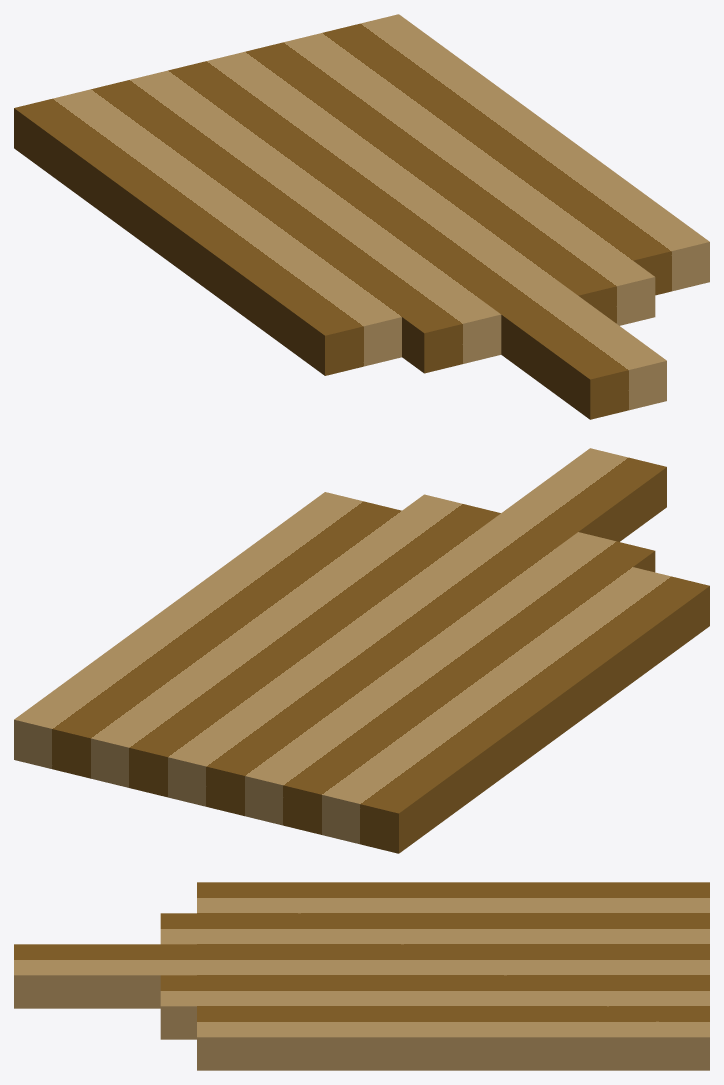
File: fund.fbx
The picture shows the model from 3 angles, top to bottom: view 1: azimuth 30°, elevation 25°; view 2: azimuth 150°, elevation 25°; view 3: azimuth 270°, elevation 25°; orthographic projection. The views are drawn at different scales.
Parts seen in each view (by area): view 1: cube, cube_1, cube_3, cube_2; view 2: cube, cube_1, cube_3, cube_2; view 3: cube, cube_1, cube_2, cube_3.
Boxes of the visible parts, box(x1,y1,x2,y2) form: cube: box(14, 14, 709, 375); cube_1: box(479, 279, 666, 419); cube_3: box(402, 298, 501, 373); cube_2: box(556, 260, 655, 325); cube: box(14, 492, 709, 853); cube_1: box(479, 448, 666, 547); cube_3: box(556, 532, 655, 572); cube_2: box(402, 494, 500, 529); cube: box(197, 882, 709, 1070); cube_1: box(14, 944, 196, 1008); cube_2: box(160, 975, 196, 1039); cube_3: box(160, 913, 196, 944).
Size of the model in its own units: 62.5 by 6.25 by 119.
Materials: 1 (1 with a texture image).
